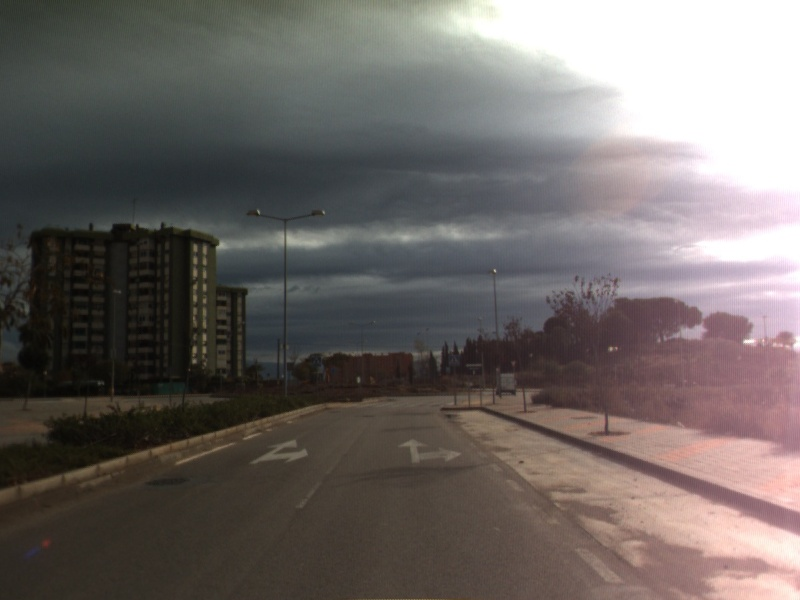STRAIGHT_RIGHT: (396, 436, 464, 465), (247, 437, 310, 466)
